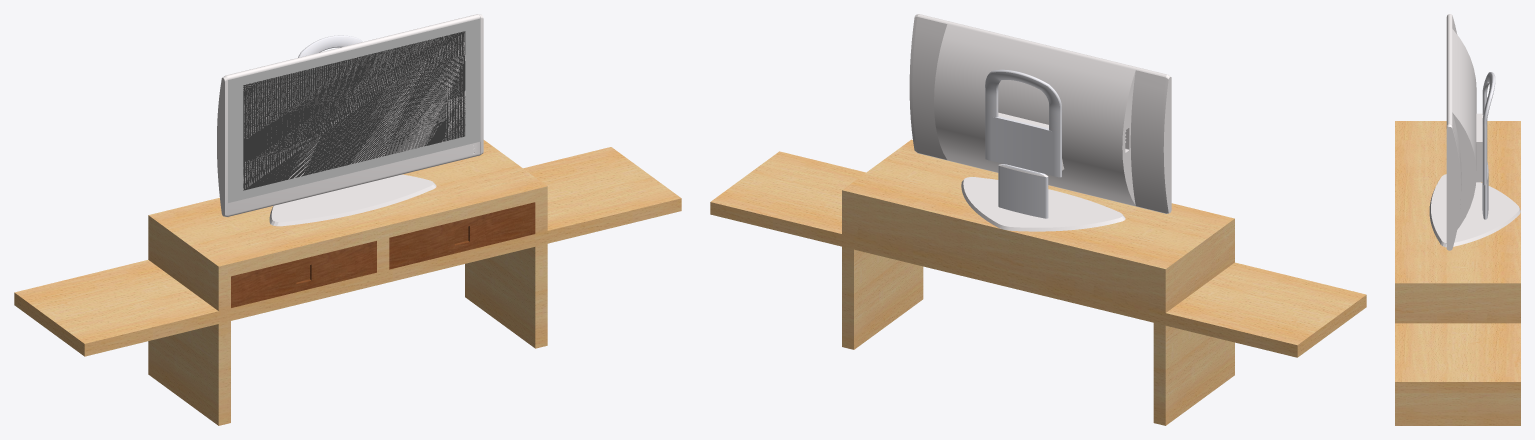
3 renders of one model, left to right at view 1: azimuth 30°, elevation 25°; view 2: azimuth 150°, elevation 25°; view 3: azimuth 270°, elevation 25°, orthographic. The views are drawn at different scales.
Parts seen in each view (by area): view 1: SketchUp (×3), group_4 (×2), group_0, group_6, group_2; view 2: SketchUp, group_5, group_4, group_6, group_3, group_7, group_2; view 3: SketchUp, group_5, group_6, group_4 (×2), group_2, group_8, group_7, group_3.
Boxes of the visible parts, x1,y1,x2,y2 form: SketchUp (×3): (14,140,681,425); group_4 (×2): (217,14,480,216); group_0: (228,18,480,202); group_6: (269,174,436,226); group_2: (298,35,362,57); SketchUp: (710,139,1366,425); group_5: (934,24,1135,205); group_4: (912,14,1171,213); group_6: (961,177,1125,231); group_3: (985,115,1061,177); group_7: (998,165,1048,218); group_2: (985,69,1062,132); SketchUp: (1395,121,1520,425); group_5: (1452,29,1476,229); group_6: (1429,174,1520,247); group_4 (×2): (1446,14,1461,250); group_2: (1482,72,1495,144); group_8: (1476,113,1482,182); group_7: (1482,173,1488,219); group_3: (1482,121,1487,185).
Size of the model in its own units: 98 by 20 by 49.96.
6 materials, 2 textured.
